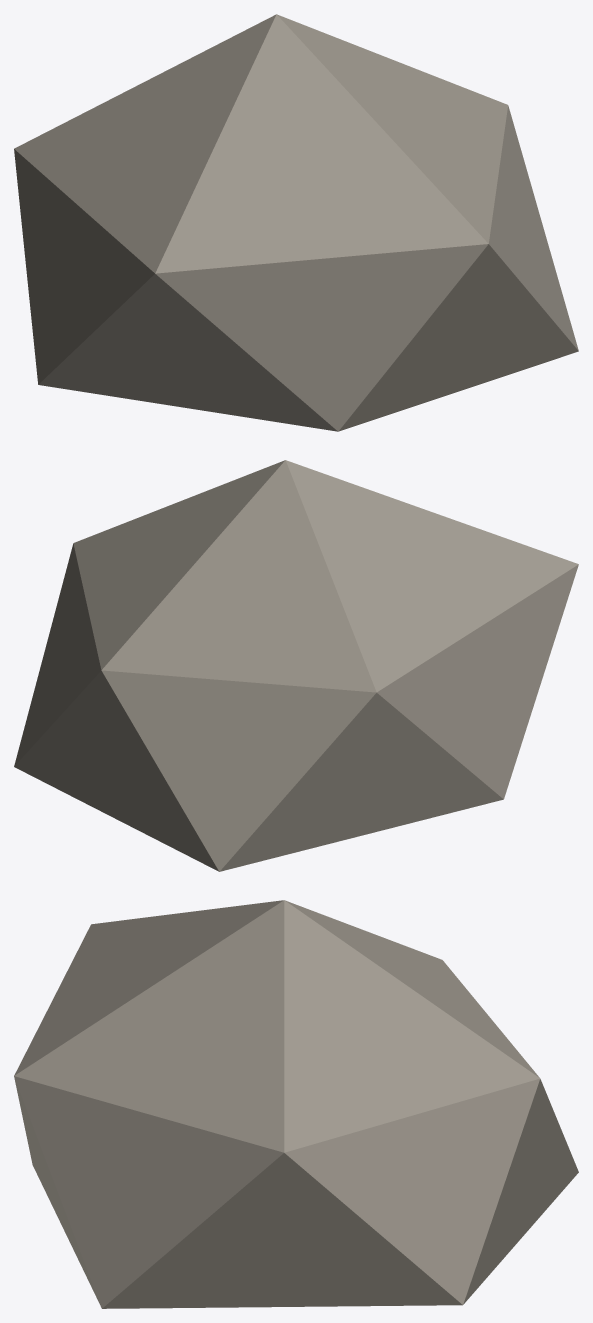
Rendered from HS_LP_Rock_Medium_02.fbx.
3 renders of one model, top to bottom at view 1: azimuth 30°, elevation 25°; view 2: azimuth 150°, elevation 25°; view 3: azimuth 270°, elevation 25°, orthographic. The views are drawn at different scales.
Parts seen in each view (by area): view 1: HS_LP_Rock_Medium_02; view 2: HS_LP_Rock_Medium_02; view 3: HS_LP_Rock_Medium_02.
Boxes of the visible parts, x1,y1,x2,y2 form: HS_LP_Rock_Medium_02: (14,14,578,431); HS_LP_Rock_Medium_02: (14,460,578,871); HS_LP_Rock_Medium_02: (14,900,578,1308).
Bounding box in the file's own units: 73.08 × 52.07 × 78.37.
